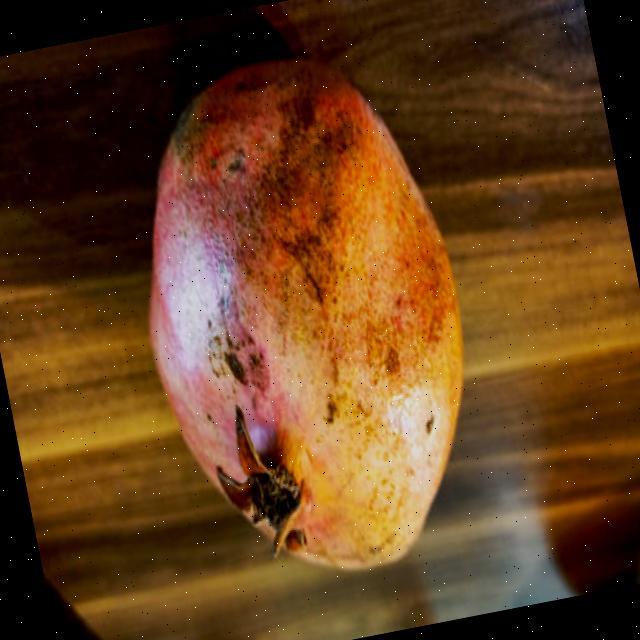overripe: (100, 30, 510, 607)
